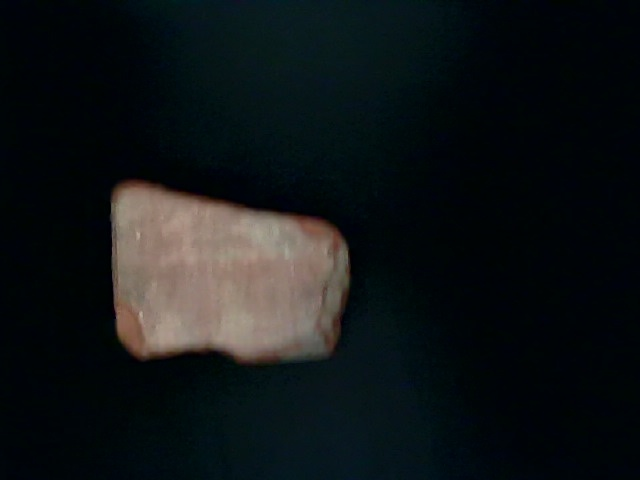KHSLJ: (171, 162, 467, 461)
